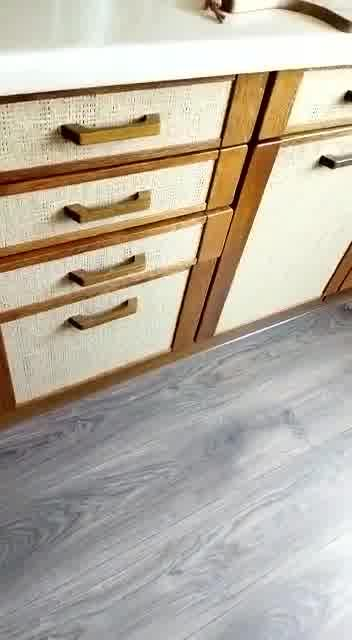cabinet_door: (215, 134, 352, 318), (0, 284, 185, 397), (0, 83, 227, 161), (0, 156, 209, 236), (1, 223, 208, 292)
handle: (55, 106, 167, 149), (60, 184, 153, 225), (62, 250, 151, 288), (63, 294, 142, 334)
